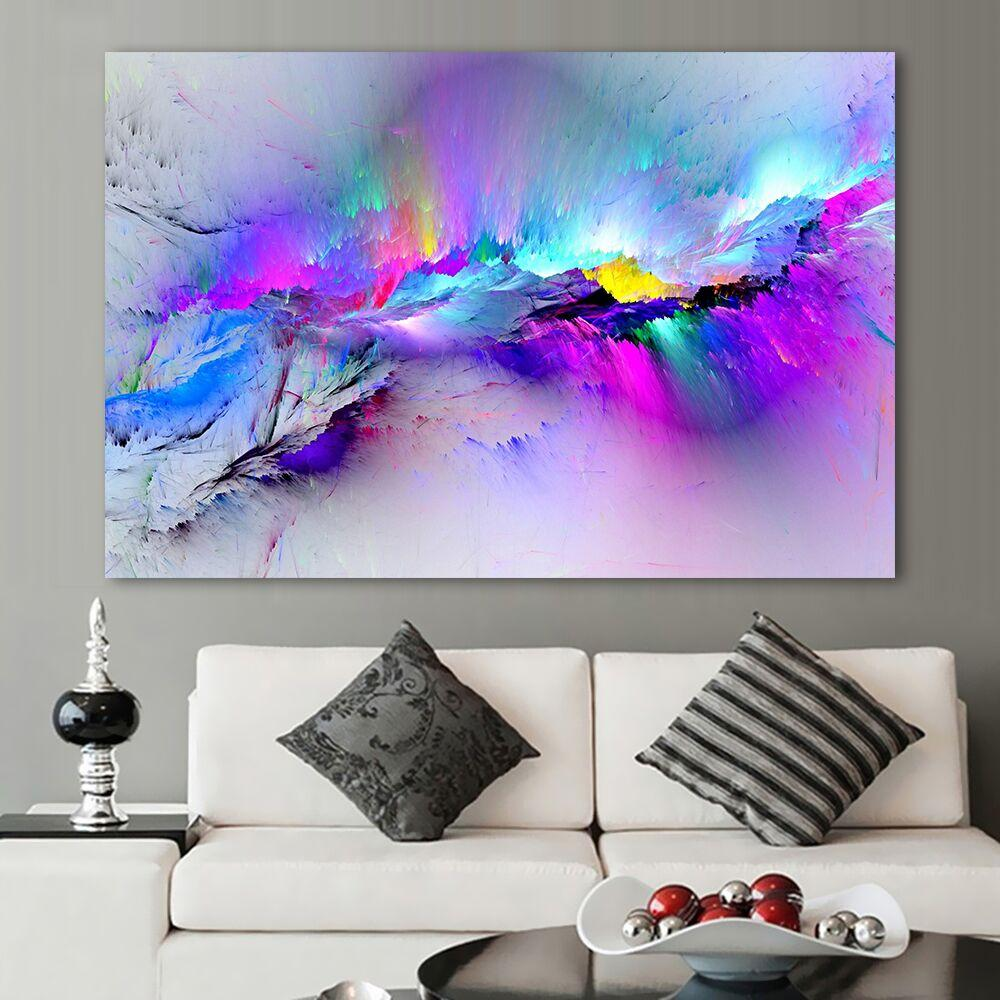hitam: (300, 661, 507, 806), (56, 686, 142, 748)
putih: (13, 841, 426, 978)
